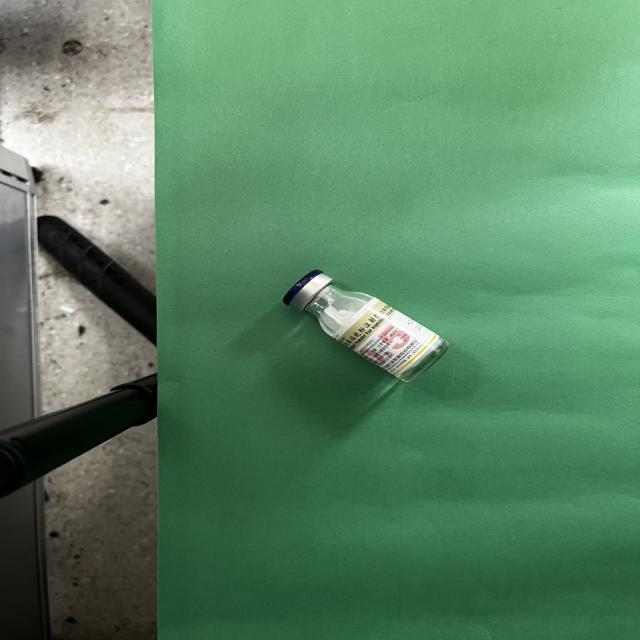Vials: (282, 270, 450, 383)
